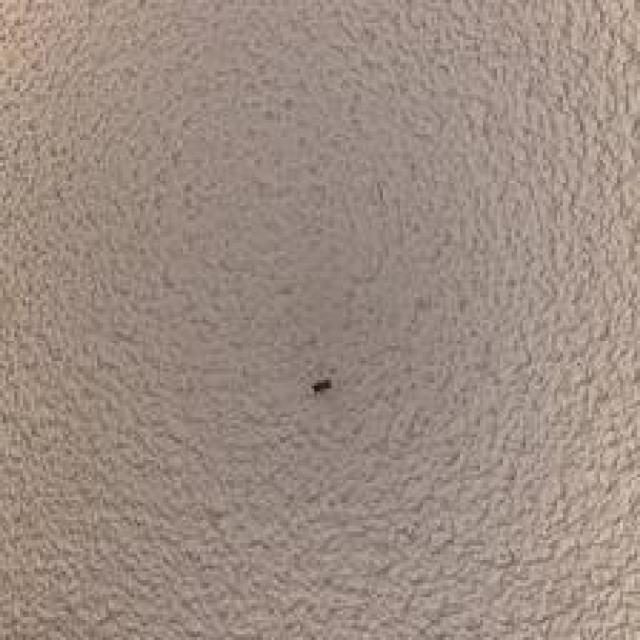Culex: (310, 377, 333, 397)
